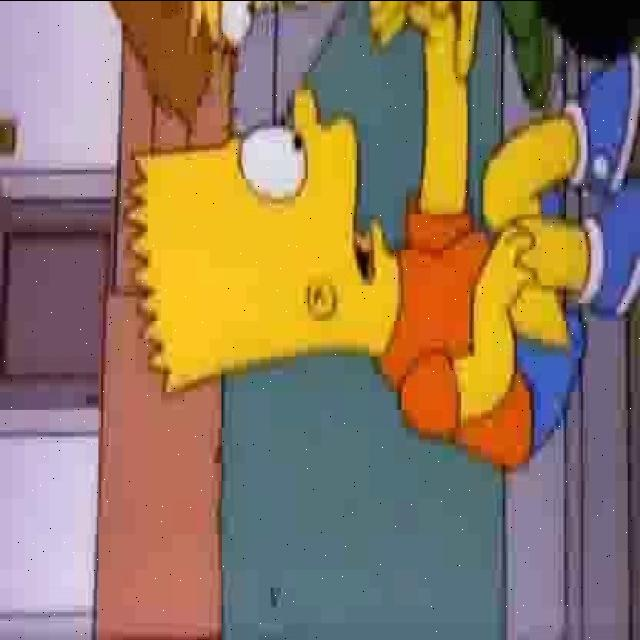Bart Simpson: (123, 83, 400, 406)
